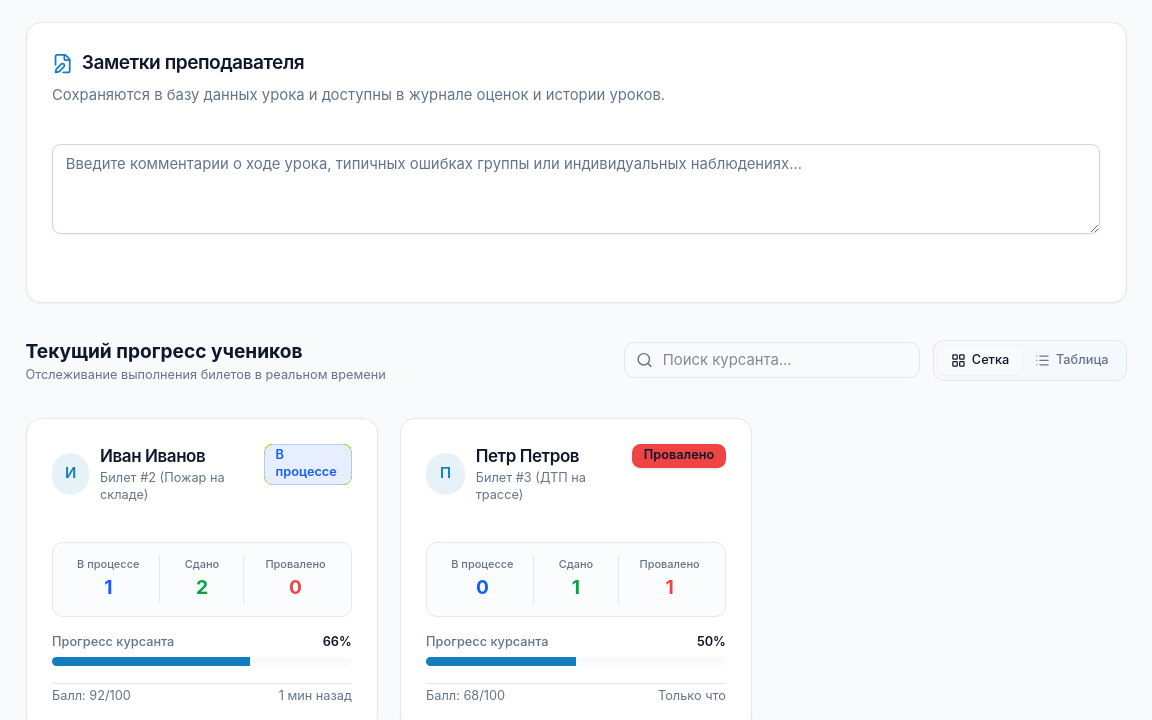
27.4: Live Dashboard › should toggle between grid and table view
(page scrolled)
Expected: the text "Иван Иванов" is shown, x1=100 y1=446 x2=205 y2=466
# Switch to table view
What coordinates should you click on to do the following:
click the button "Таблица"
I would click on:
 (1072, 360)
Its box is x1=1022 y1=346 x2=1121 y2=375.
(page scrolled)
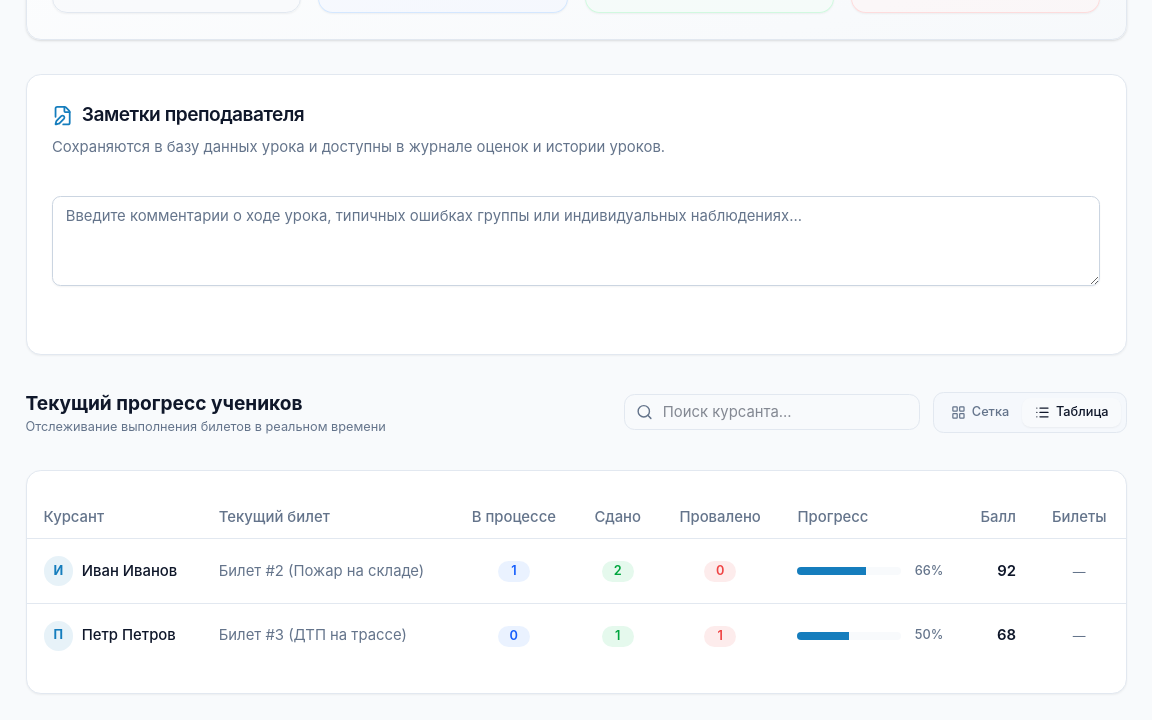
Expected: the column heading "Курсант" is shown, x1=26 y1=496 x2=202 y2=539
Expected: the table is shown, x1=26 y1=496 x2=1126 y2=668
Expected: the column heading "Текущий билет" is shown, x1=202 y1=496 x2=452 y2=539
# Switch back to grid view
What coordinates should you click on to do the following:
click the button "Сетка"
I would click on:
 (980, 412)
Its box is x1=938 y1=398 x2=1022 y2=427.
(page scrolled)
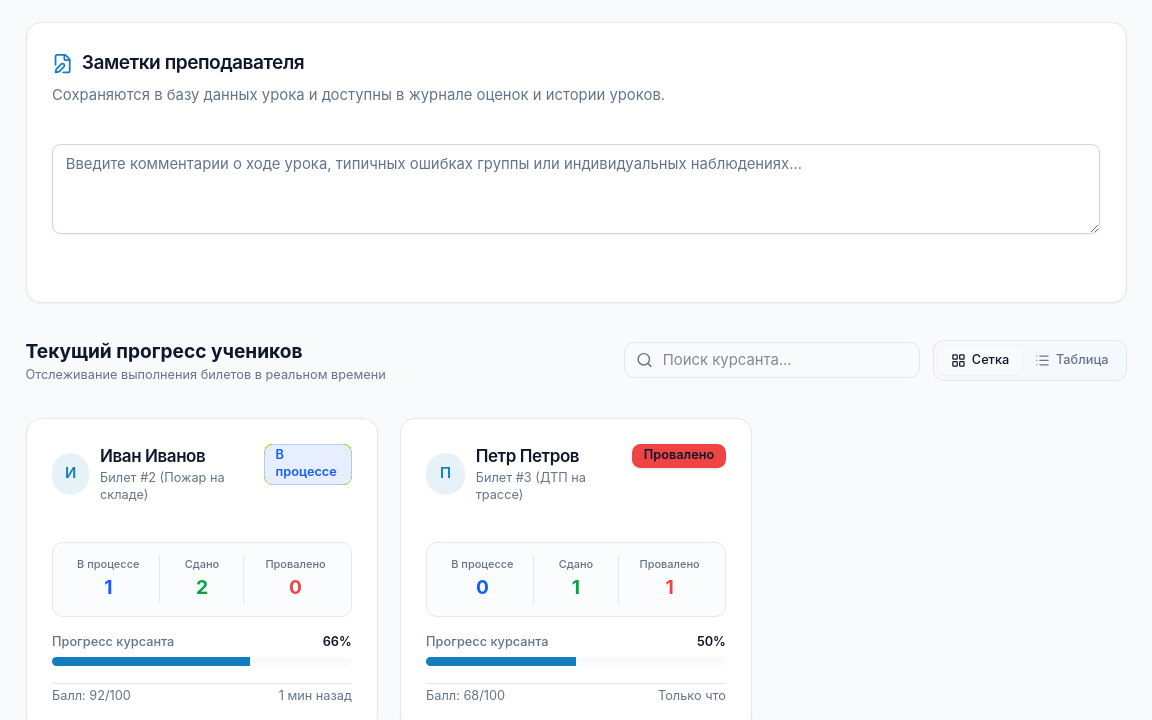
Expected: the table is gone
